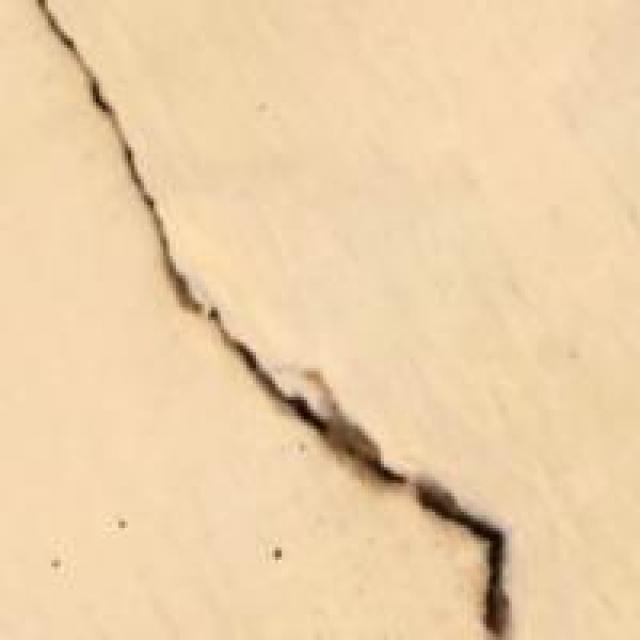crack: (42, 0, 528, 634)
